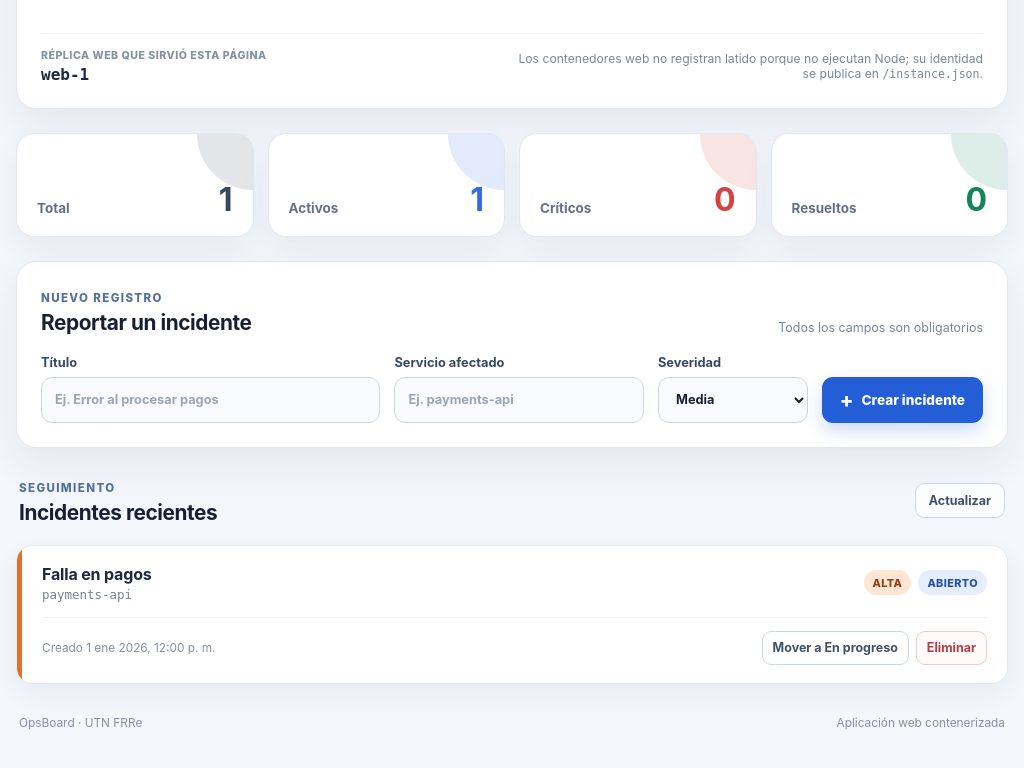
Test: OpsBoard › deletes an incident from the API and the screen
This screenshot has width=1024, height=768.
(page scrolled)
Click the button with aria-label "Eliminar Falla en pagos": click(951, 648) [916, 631, 987, 665]
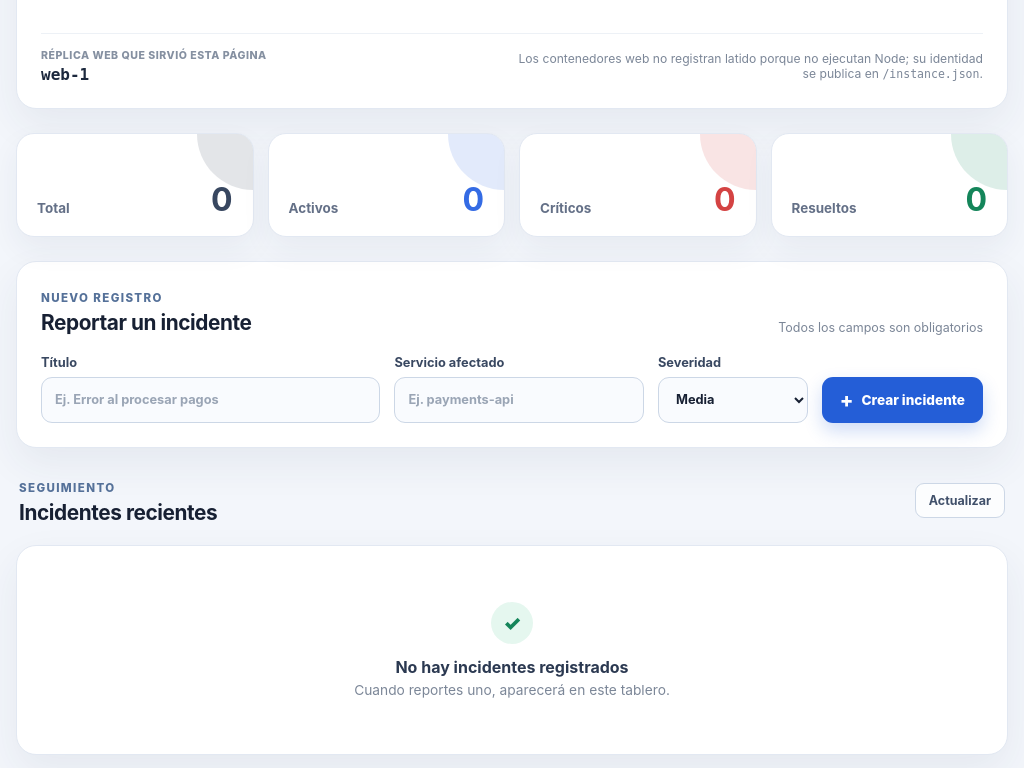
Now the text "No hay incidentes registrados" is shown, box [395, 657, 629, 677]
